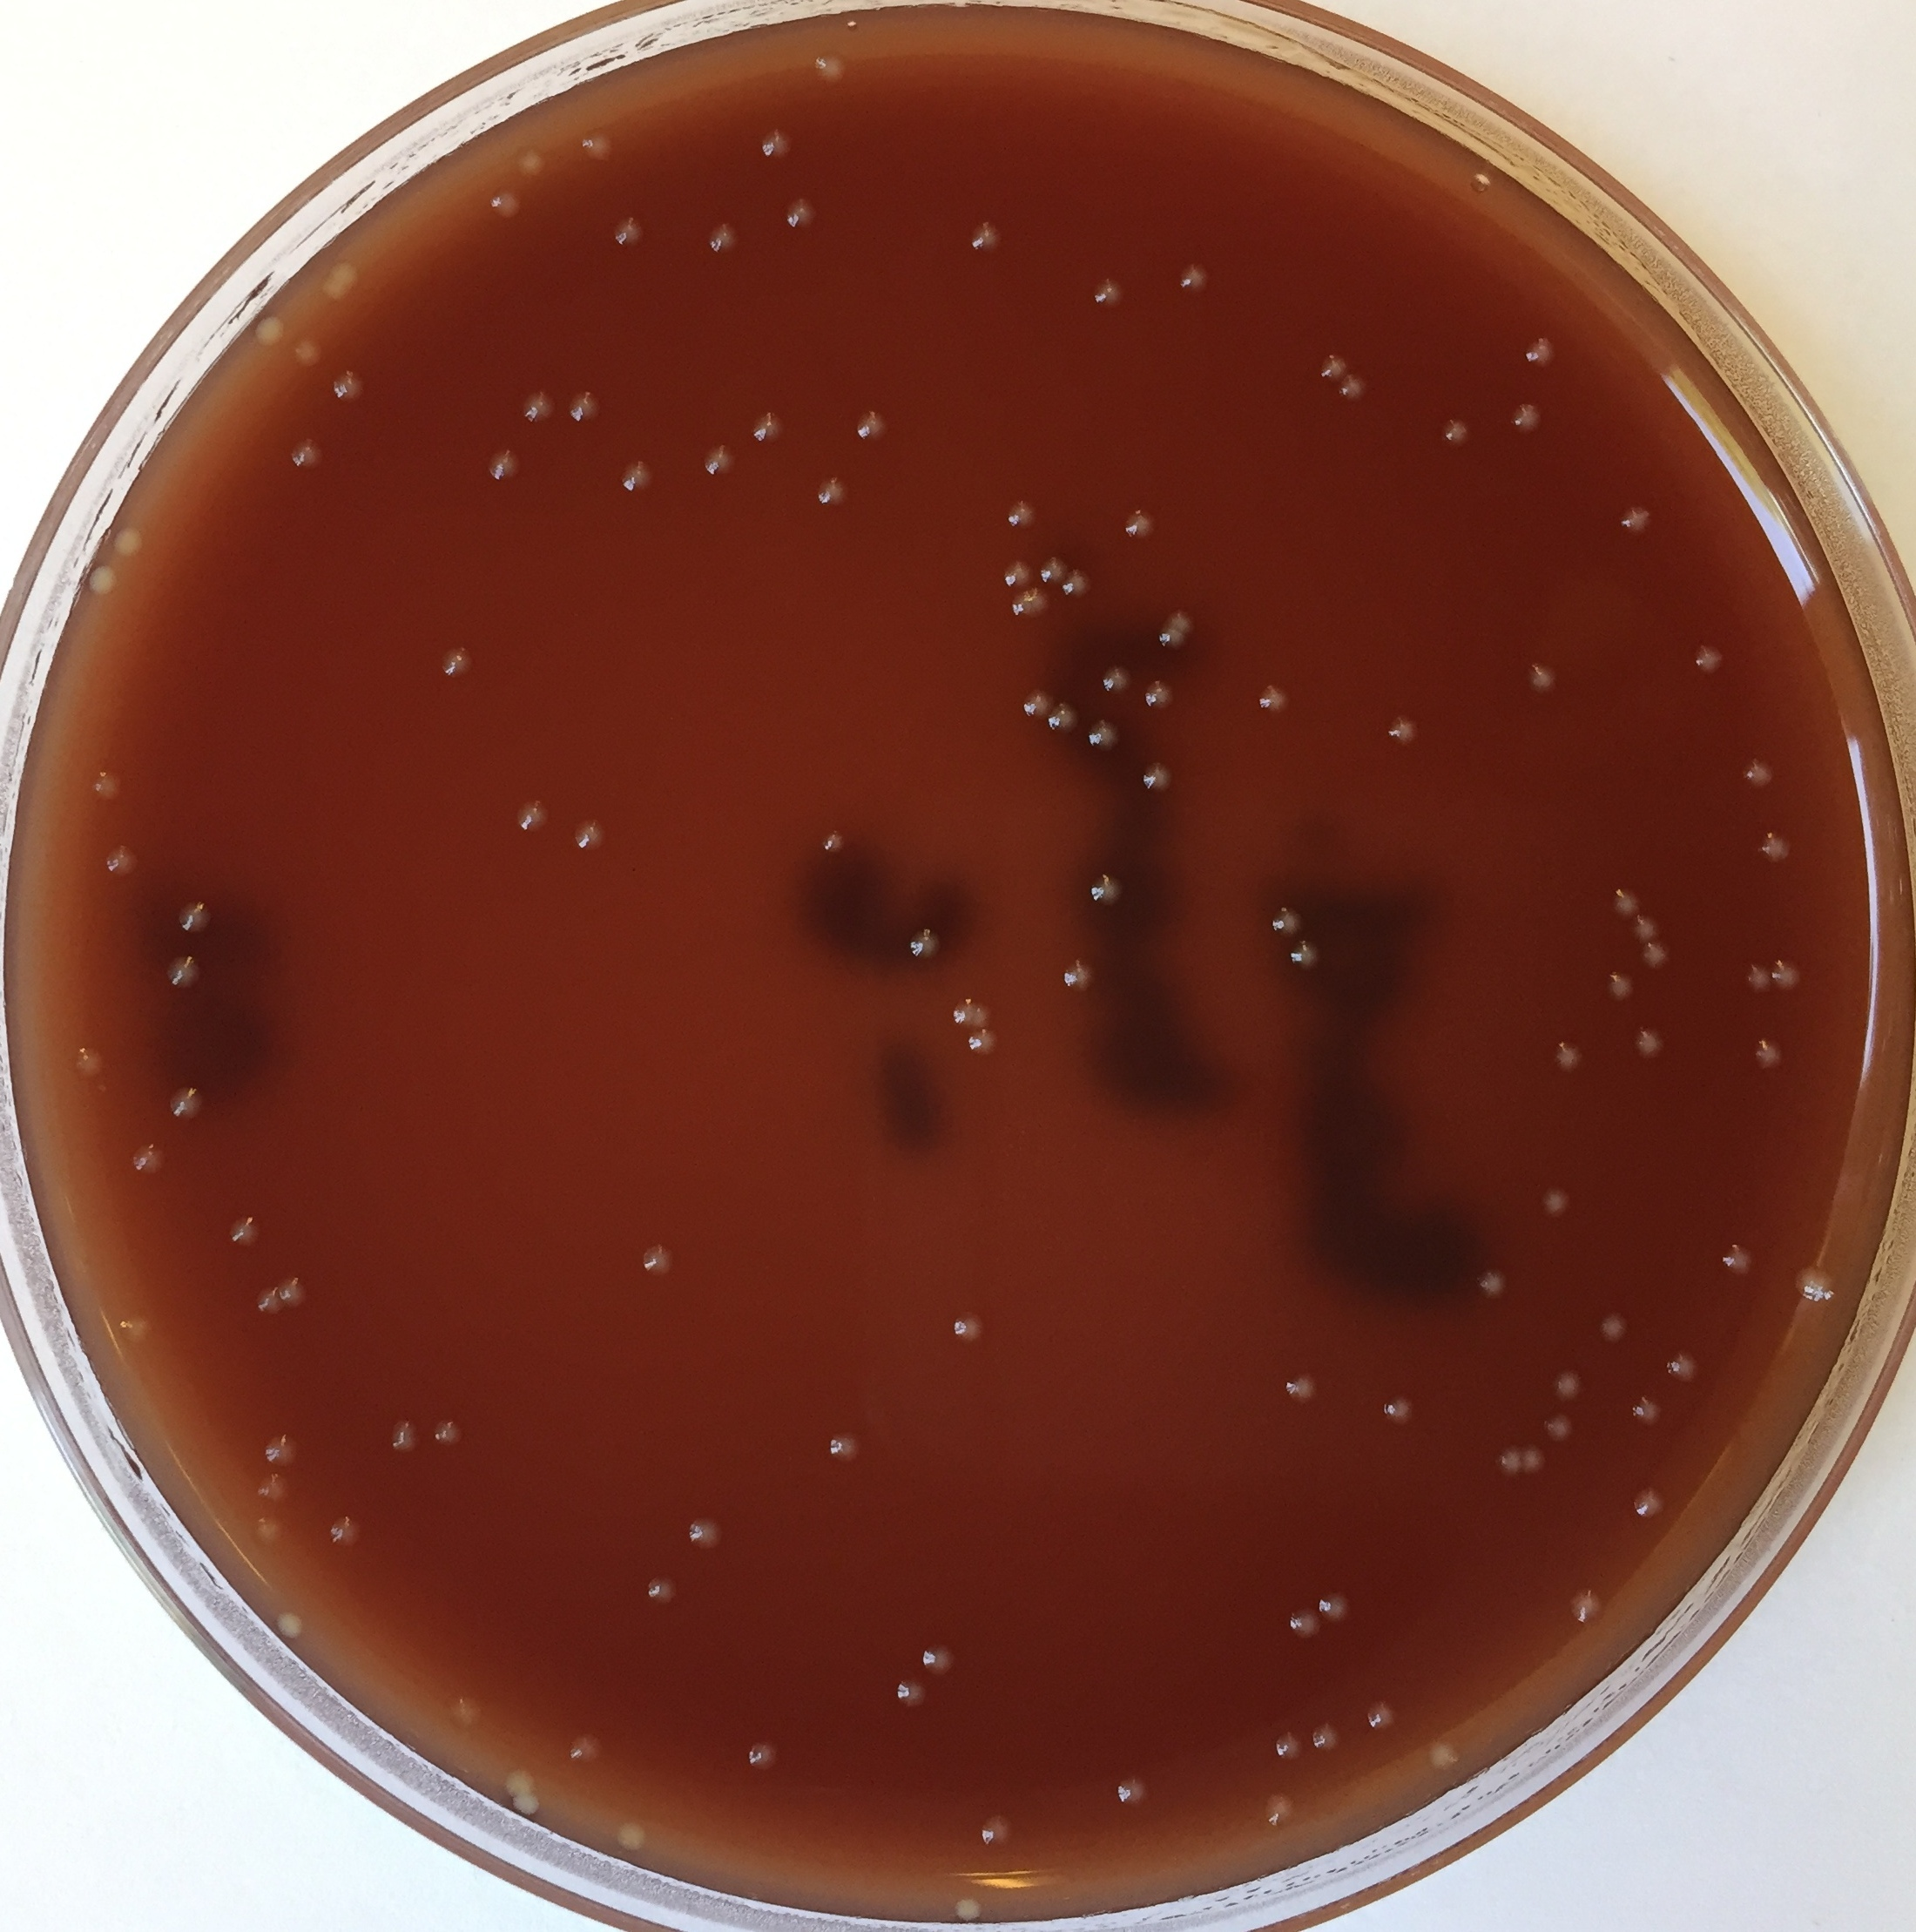sp06: (133, 1128, 182, 1191), (311, 258, 363, 316), (1791, 1262, 1839, 1309), (1656, 1344, 1705, 1388), (949, 1306, 993, 1351), (576, 126, 619, 170), (1569, 1585, 1611, 1628), (1277, 1370, 1321, 1413), (1755, 828, 1798, 870), (702, 219, 749, 258), (107, 525, 154, 563), (565, 1728, 607, 1771), (1626, 1020, 1669, 1062), (1523, 660, 1565, 702), (65, 1044, 107, 1086), (1751, 1032, 1791, 1076), (516, 142, 553, 190), (246, 1511, 288, 1551), (518, 388, 560, 428), (484, 182, 528, 221), (163, 1083, 207, 1121), (1251, 684, 1297, 721), (604, 212, 649, 249), (1376, 1390, 1416, 1430), (1593, 1309, 1634, 1349), (747, 407, 788, 447), (165, 951, 205, 991), (686, 1514, 725, 1556), (1719, 1237, 1758, 1279), (1084, 716, 1126, 755), (286, 435, 328, 474), (1381, 714, 1425, 751), (225, 1213, 265, 1251), (612, 1816, 653, 1855), (1630, 1483, 1670, 1521), (1286, 937, 1326, 976), (1688, 637, 1727, 677), (565, 386, 604, 426), (919, 1642, 962, 1679), (1625, 1393, 1667, 1430), (1616, 504, 1658, 540), (88, 565, 130, 602), (1058, 956, 1100, 993), (742, 1739, 781, 1778), (1262, 1788, 1300, 1827), (1539, 1409, 1577, 1448), (1739, 958, 1777, 997), (1769, 960, 1807, 998), (1095, 662, 1133, 700), (642, 1237, 679, 1277), (979, 1811, 1016, 1851), (1114, 1771, 1151, 1811), (1600, 969, 1641, 1005), (853, 409, 893, 446), (756, 128, 797, 165), (700, 440, 740, 477), (261, 1434, 304, 1469), (1549, 1037, 1591, 1072), (962, 1025, 1004, 1060), (1118, 507, 1162, 540), (326, 1513, 363, 1551), (272, 1606, 309, 1644), (1309, 1718, 1348, 1755), (1019, 686, 1058, 723), (1140, 758, 1179, 795), (1505, 400, 1544, 437), (330, 367, 368, 404), (437, 642, 474, 681), (172, 898, 211, 935), (572, 816, 611, 853), (498, 1765, 539, 1800), (291, 332, 326, 372), (384, 1416, 421, 1453), (816, 49, 853, 86), (253, 311, 290, 347), (618, 458, 654, 495), (907, 927, 944, 963), (449, 1693, 488, 1728), (644, 1571, 679, 1609), (825, 1430, 863, 1465), (1362, 1699, 1400, 1734), (1472, 1265, 1511, 1300), (1639, 932, 1674, 970), (1335, 369, 1370, 407), (1090, 874, 1130, 907), (897, 1676, 933, 1711), (1269, 904, 1305, 939), (1609, 884, 1644, 921), (1140, 677, 1177, 712), (1035, 553, 1070, 590), (1021, 579, 1056, 616), (89, 767, 125, 804), (102, 842, 139, 877), (1549, 1367, 1583, 1406), (1741, 758, 1779, 791), (1046, 700, 1084, 733), (967, 219, 1005, 253), (253, 1472, 293, 1504), (951, 995, 991, 1027), (1286, 1606, 1321, 1641), (1318, 1588, 1353, 1623), (1060, 565, 1095, 600), (1007, 498, 1042, 533), (486, 446, 521, 481), (430, 1416, 467, 1449), (1270, 1728, 1304, 1765), (1495, 1444, 1528, 1481), (998, 560, 1035, 593), (516, 797, 549, 834), (1423, 1742, 1463, 1772), (1090, 277, 1130, 307), (251, 1283, 284, 1318), (818, 472, 851, 507), (1177, 261, 1212, 295), (786, 198, 821, 232), (274, 1276, 311, 1307), (1437, 416, 1470, 449), (1626, 911, 1662, 942), (114, 1311, 151, 1341), (951, 1893, 988, 1923), (1523, 332, 1560, 361), (1539, 1188, 1574, 1218), (1519, 1442, 1549, 1478), (1316, 349, 1348, 381), (509, 1788, 544, 1816), (1155, 625, 1186, 655), (1163, 607, 1195, 637), (816, 830, 847, 858), (1007, 593, 1035, 621)
